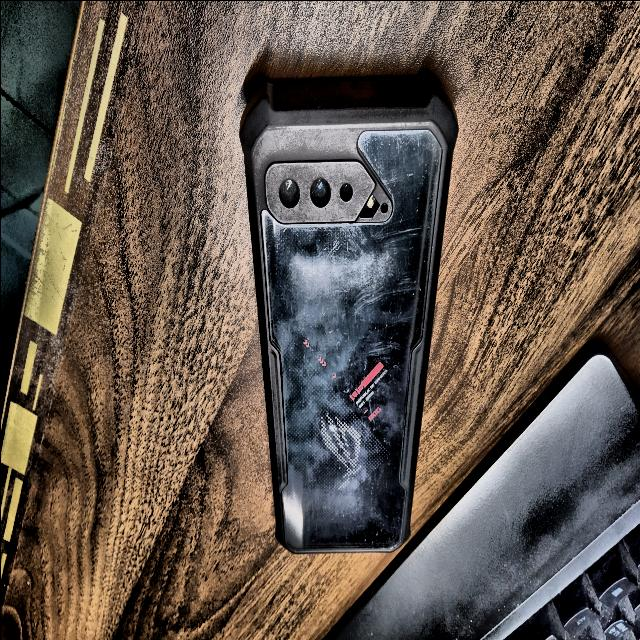PHONE: (239, 79, 456, 552)
